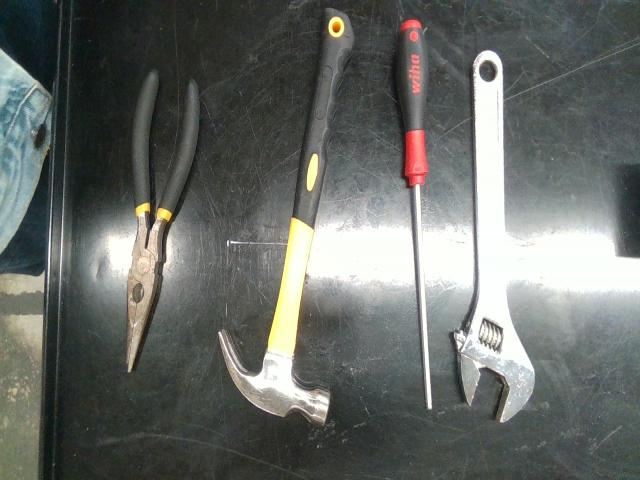Adjustable spanner: (454, 50, 535, 422)
Hammer: (219, 8, 354, 424)
Needle-nose pliers: (126, 70, 200, 371)
Screwdriver: (396, 20, 432, 410)
